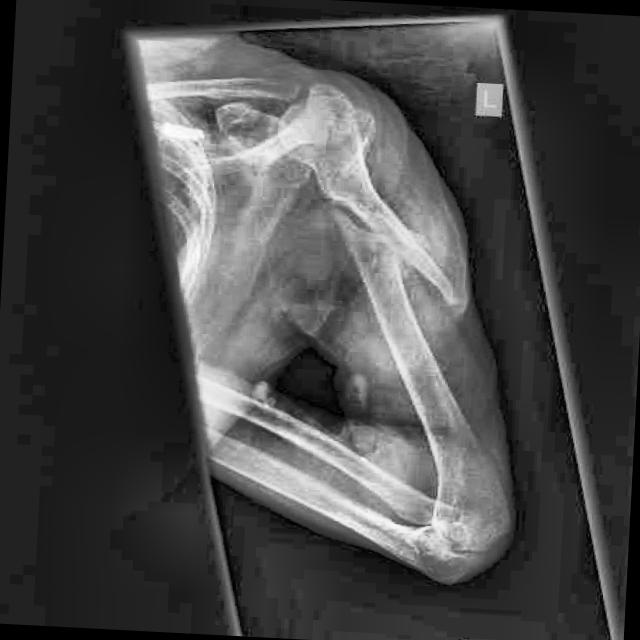humerus: (301, 146, 514, 366)
